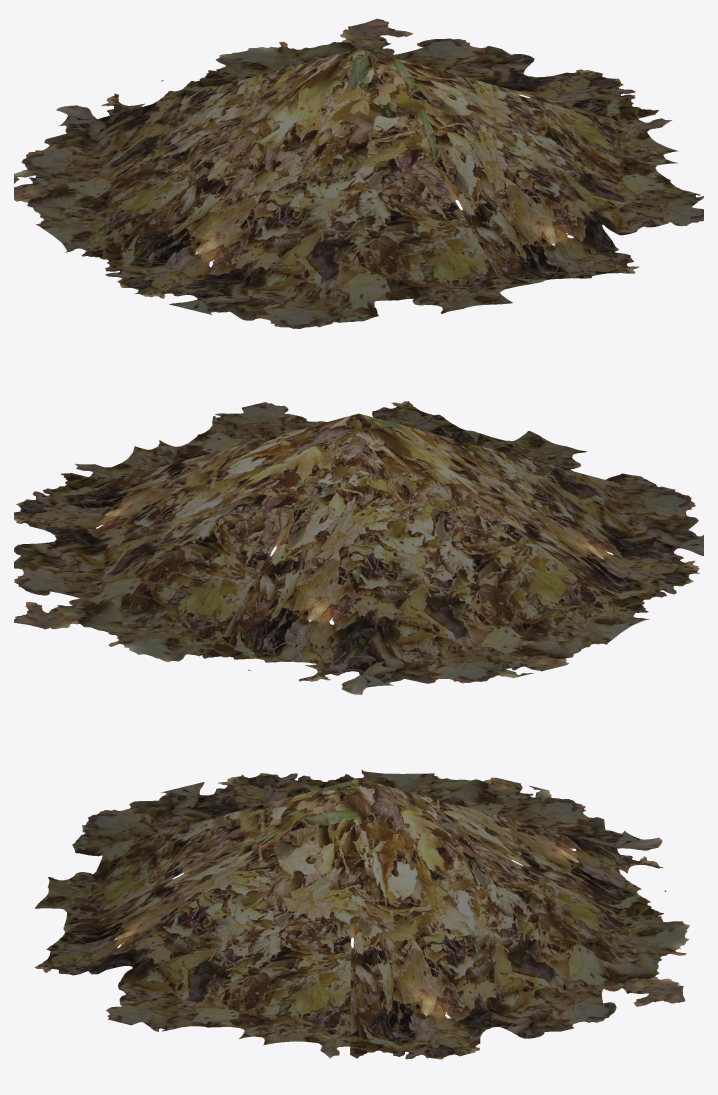
The model's file is MSH_LeafPile_01.fbx.
3 renders of one model, top to bottom at view 1: azimuth 30°, elevation 25°; view 2: azimuth 150°, elevation 25°; view 3: azimuth 270°, elevation 25°, orthographic.
Parts seen in each view (by area): view 1: MSH_LeafPile_01; view 2: MSH_LeafPile_01; view 3: MSH_LeafPile_01.
Part boxes in pixels (bbox=[...]): MSH_LeafPile_01: bbox=[14, 18, 703, 328]; MSH_LeafPile_01: bbox=[14, 401, 703, 694]; MSH_LeafPile_01: bbox=[34, 770, 689, 1059].
Bounding box in the file's own units: 319 × 59.15 × 276.
